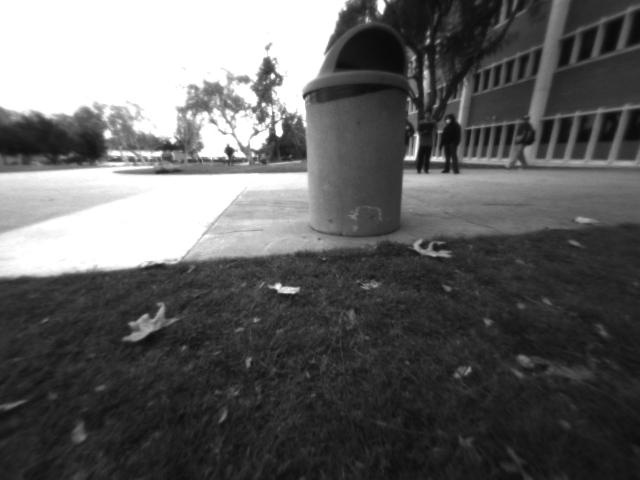trashcan: (300, 20, 412, 240)
